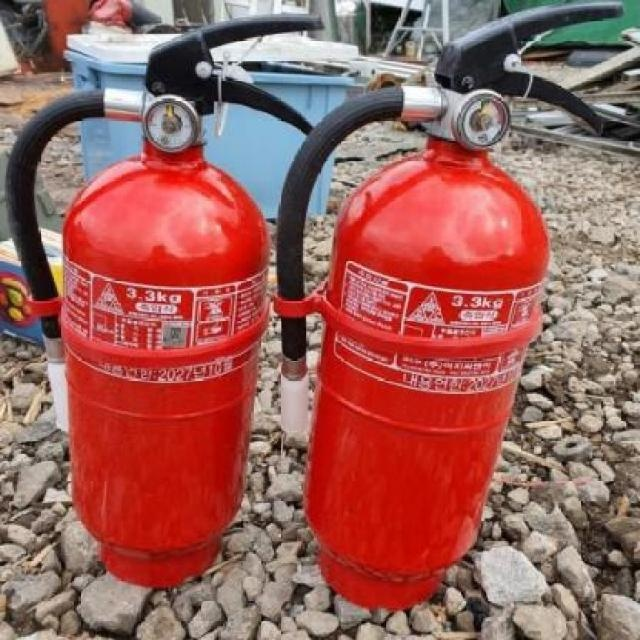fire extinguisher: (270, 1, 627, 612), (4, 14, 325, 589)
